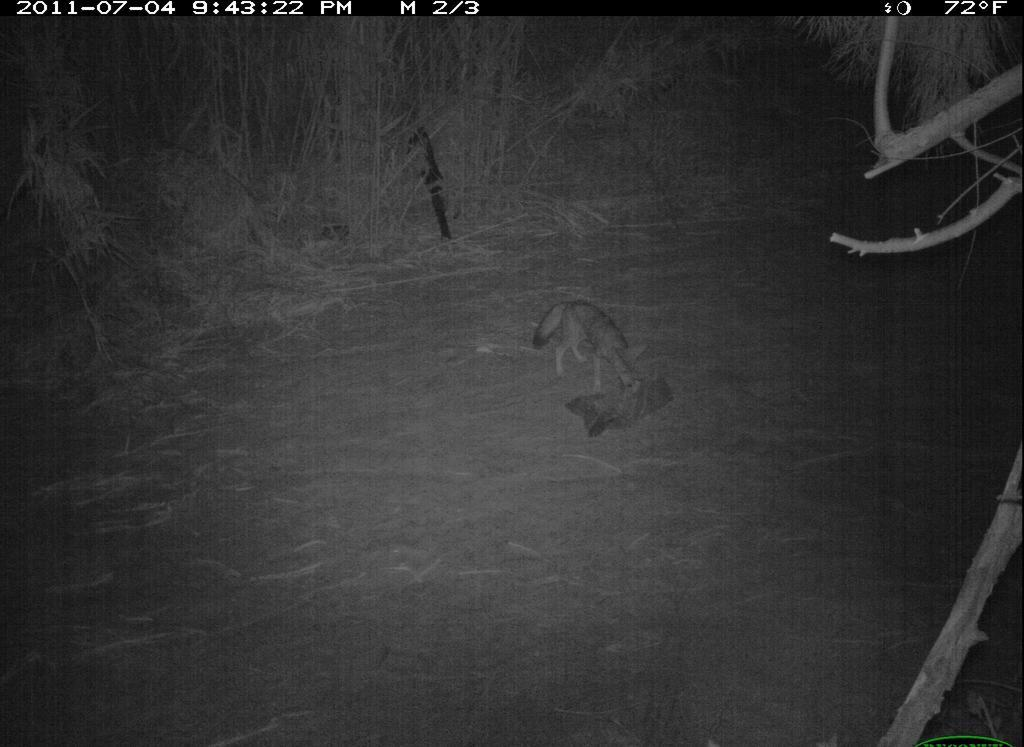coyote: (528, 282, 647, 381)
